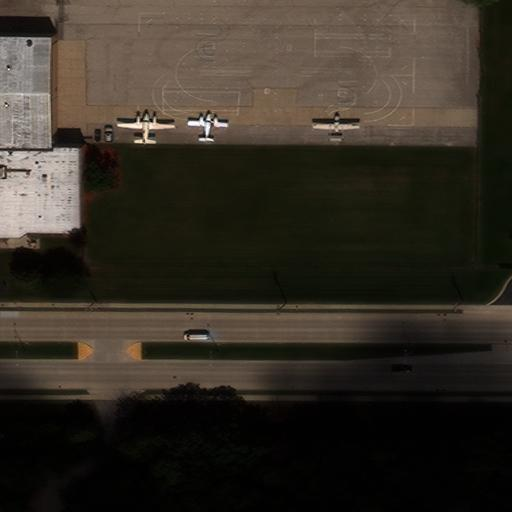Small Civil Transport: (116, 112, 174, 145), (312, 114, 358, 144), (187, 113, 227, 141)
